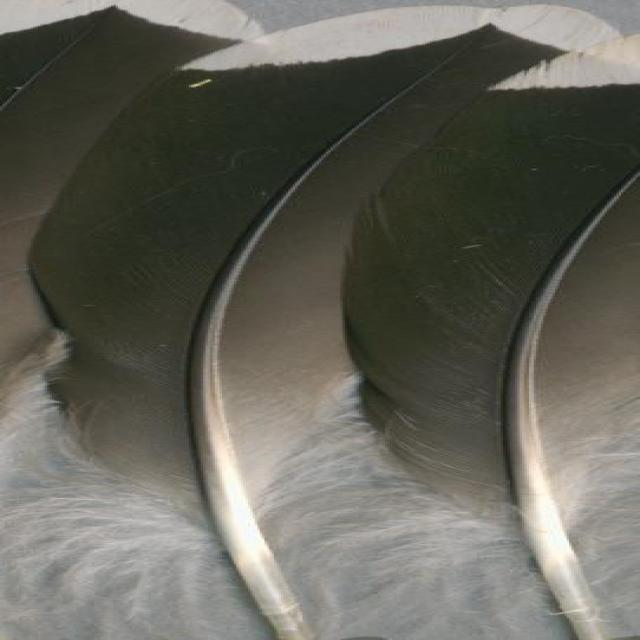feather: (28, 0, 602, 640), (337, 33, 640, 640)
